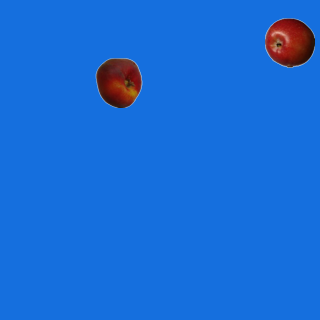Apple Braeburn: (264, 17, 314, 67)
Nectarine Flat: (93, 57, 143, 107)
